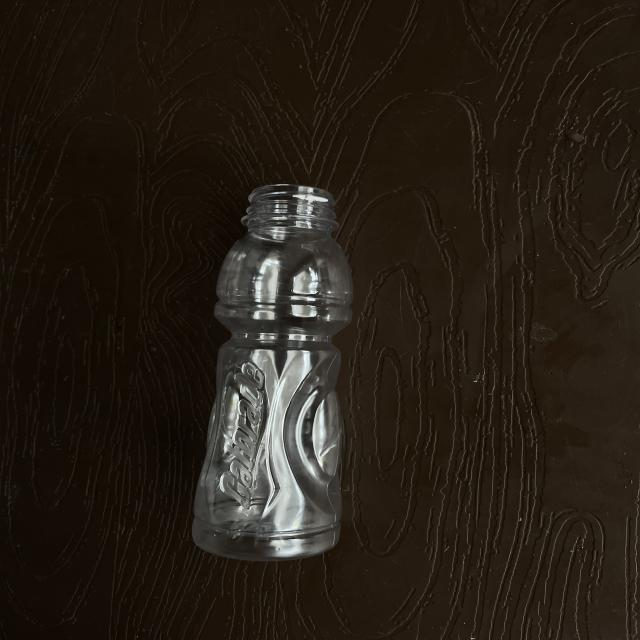PET_ClearBottle: (63, 180, 396, 561)
